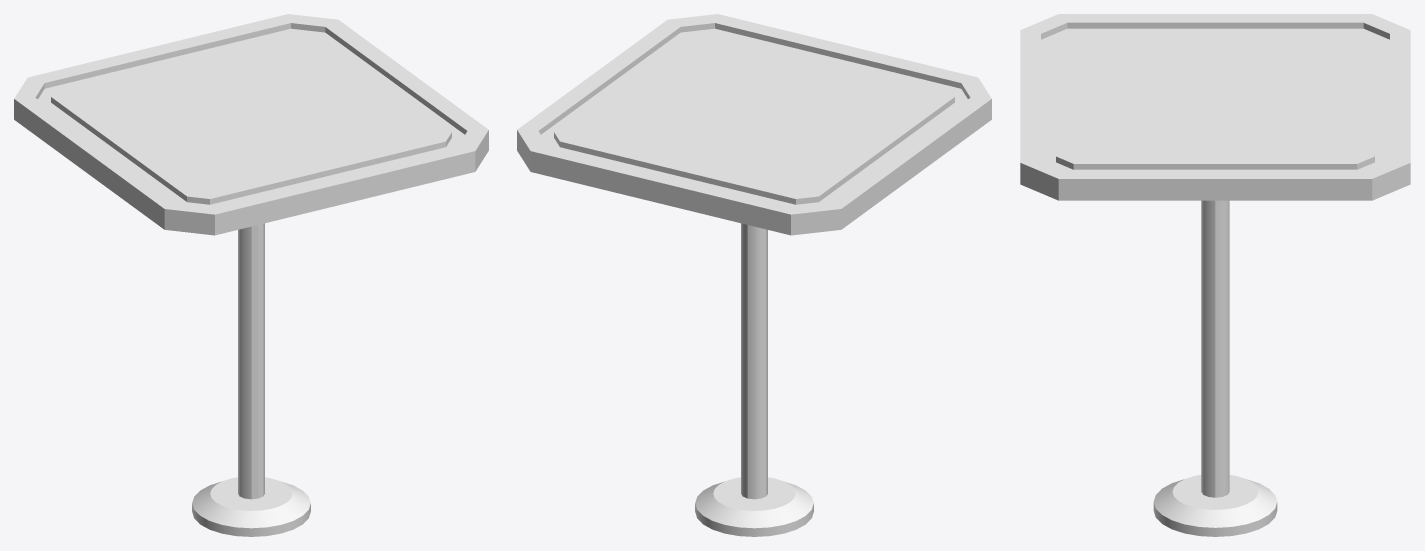
File: Furn_Table_2.001.fbx
3 views of the same model, side by side, from view 1: azimuth 30°, elevation 25°; view 2: azimuth 150°, elevation 25°; view 3: azimuth 270°, elevation 25° (orthographic). The views are drawn at different scales.
Parts seen in each view (by area): view 1: Furn_Table_2.001; view 2: Furn_Table_2.001; view 3: Furn_Table_2.001.
Part boxes in pixels (left/top/right/bottom): Furn_Table_2.001: left=14, top=14, right=488, bottom=536; Furn_Table_2.001: left=517, top=14, right=991, bottom=536; Furn_Table_2.001: left=1020, top=14, right=1410, bottom=536.
Size of the model in its own units: 0.9659 by 1.13 by 0.9659.
